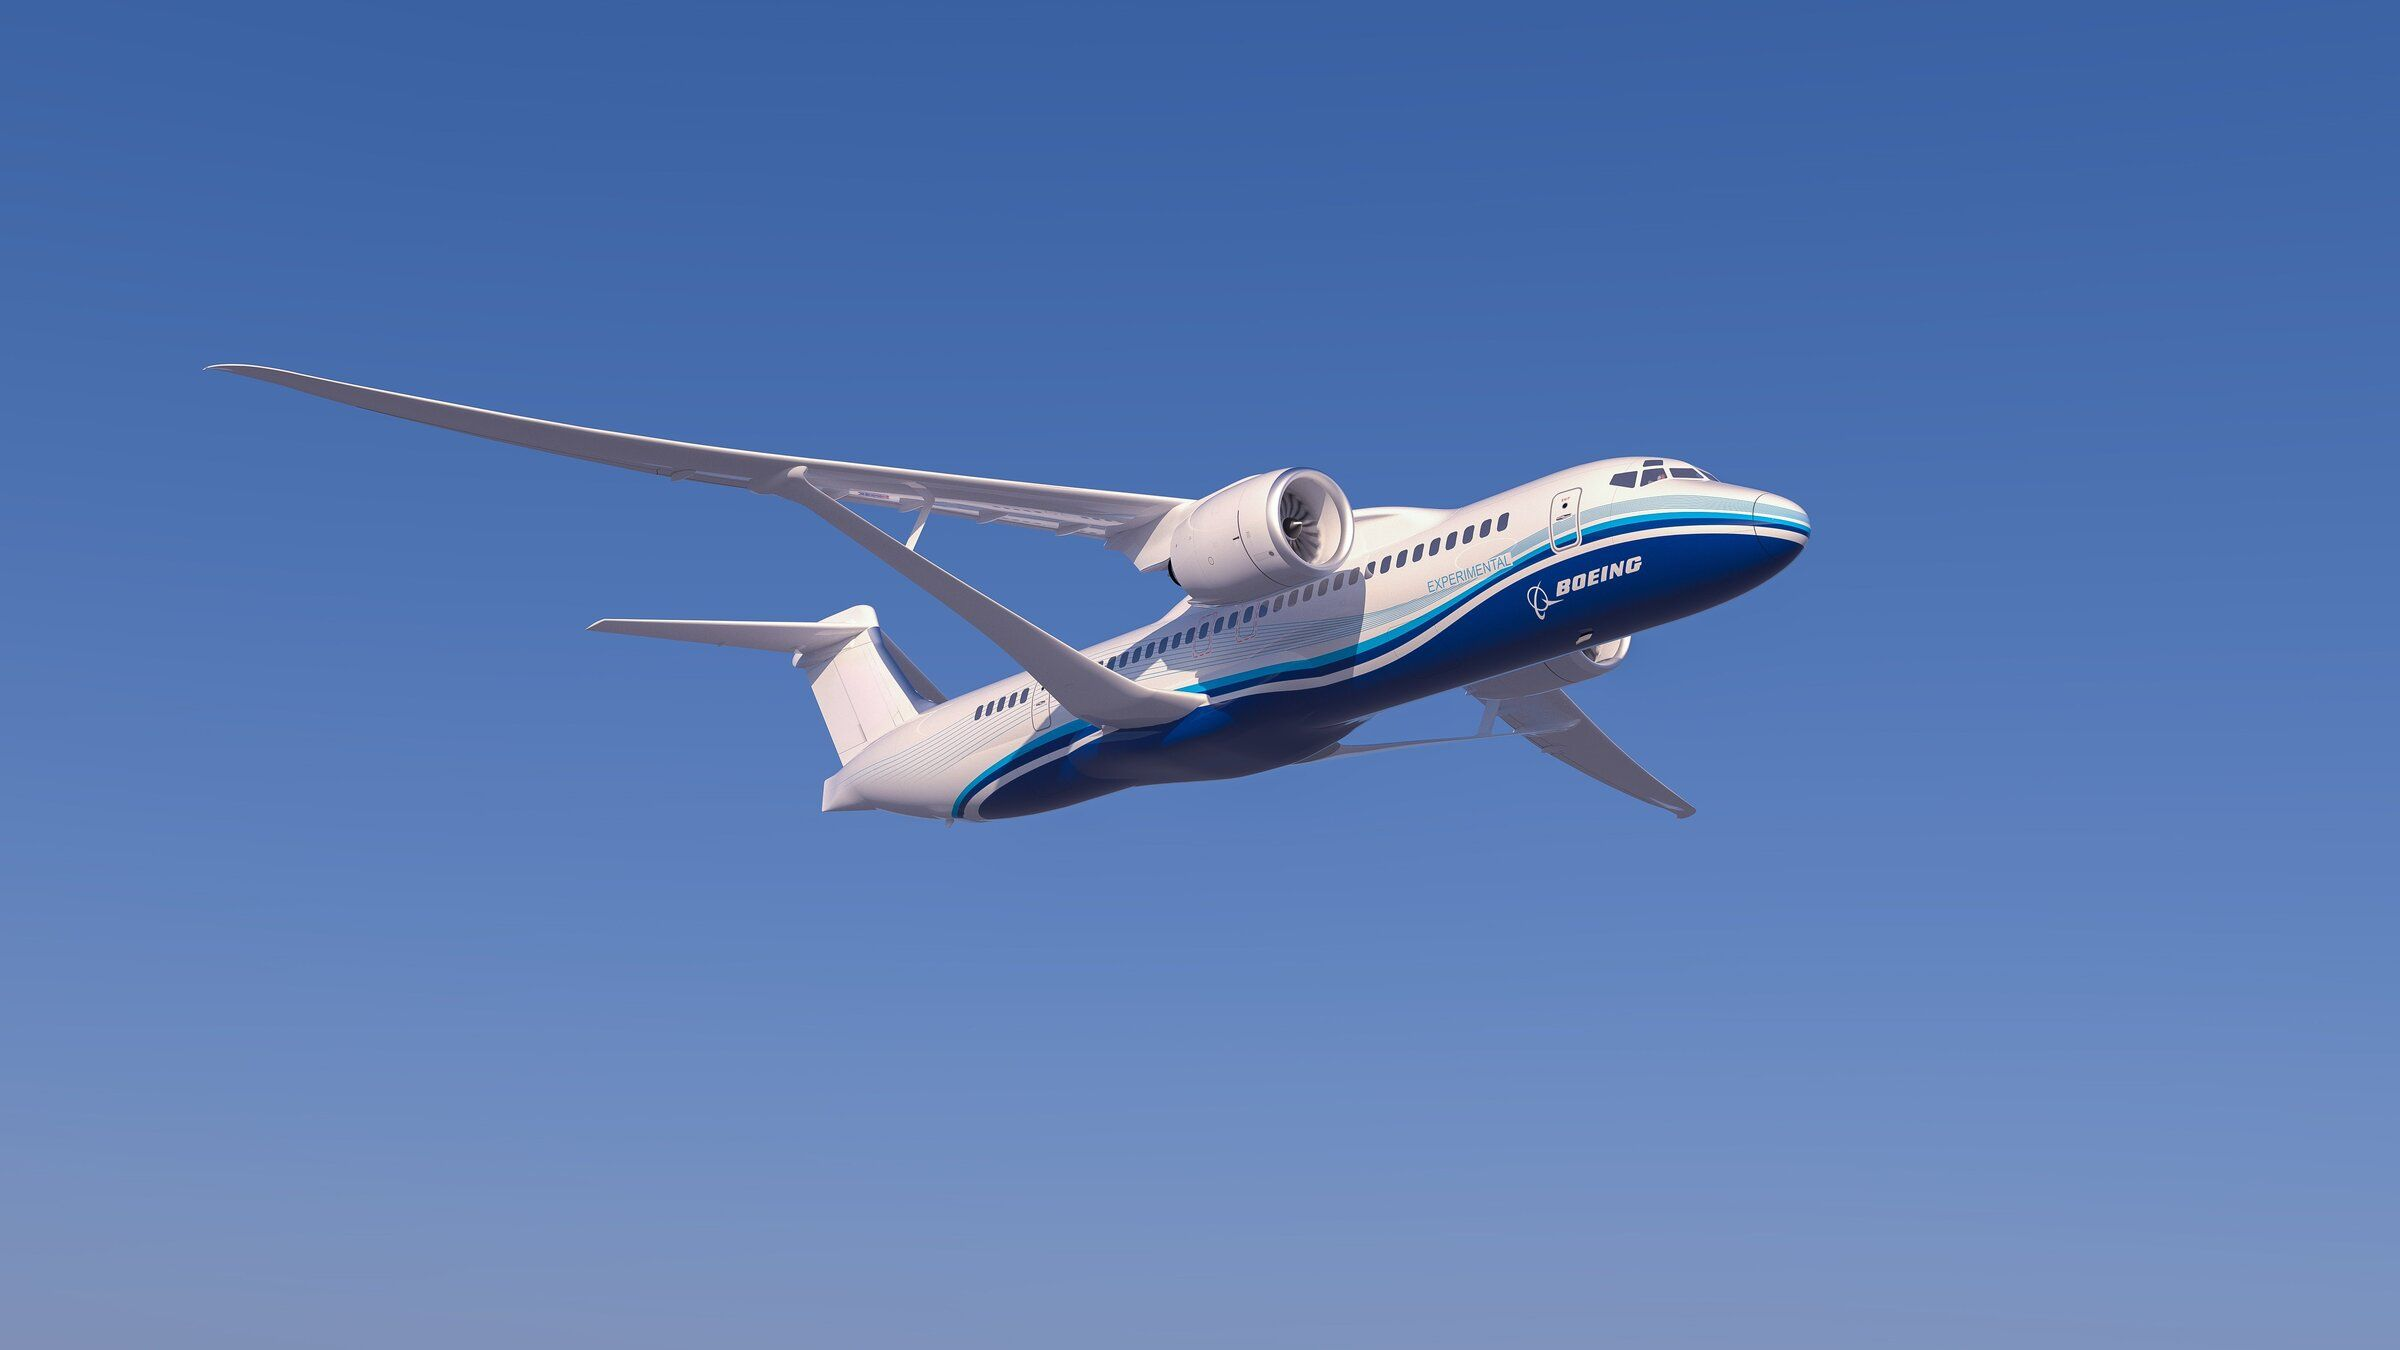Airplane: (166, 260, 1836, 907)
